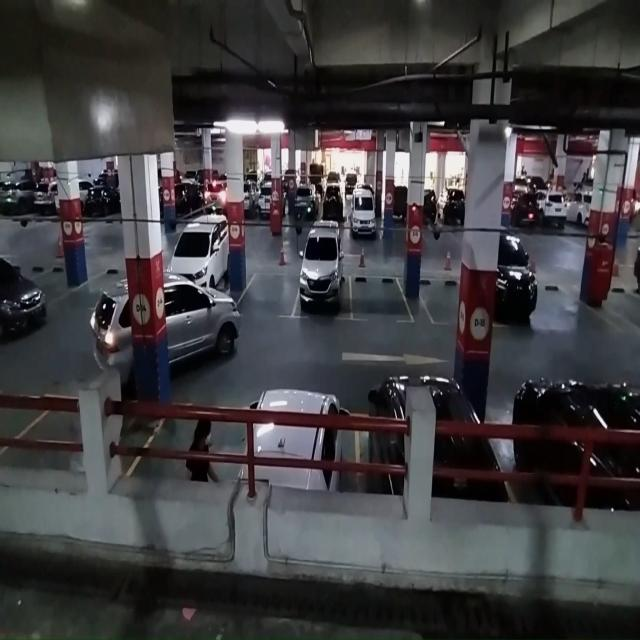empty: (351, 271, 412, 323), (243, 266, 298, 321), (421, 276, 461, 327)
occupied: (294, 260, 352, 322)
